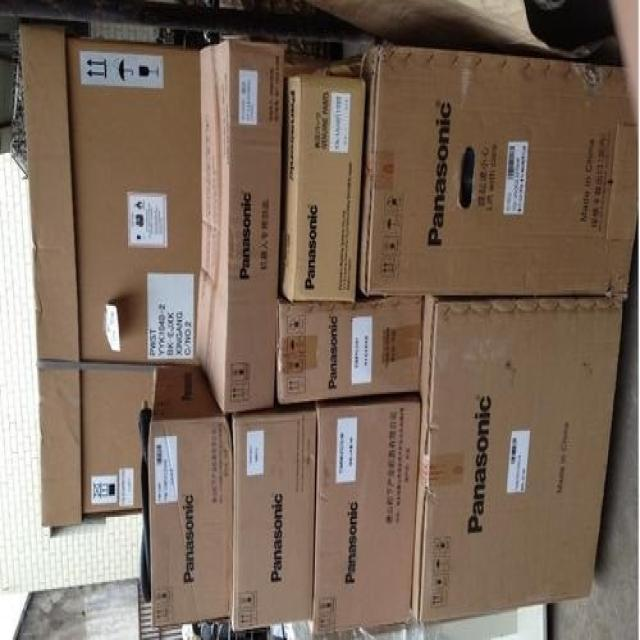box: (19, 27, 202, 529), (345, 47, 639, 297), (406, 294, 622, 627), (197, 41, 284, 415), (313, 396, 420, 633), (149, 363, 233, 629), (276, 75, 364, 303), (232, 410, 318, 630), (275, 296, 421, 406)
